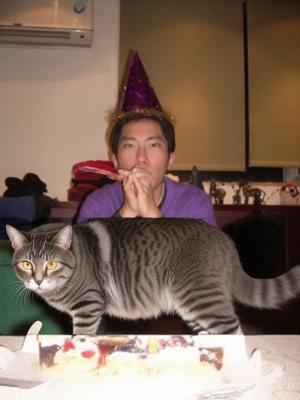cat: (2, 217, 300, 334)
person: (42, 51, 237, 334)
